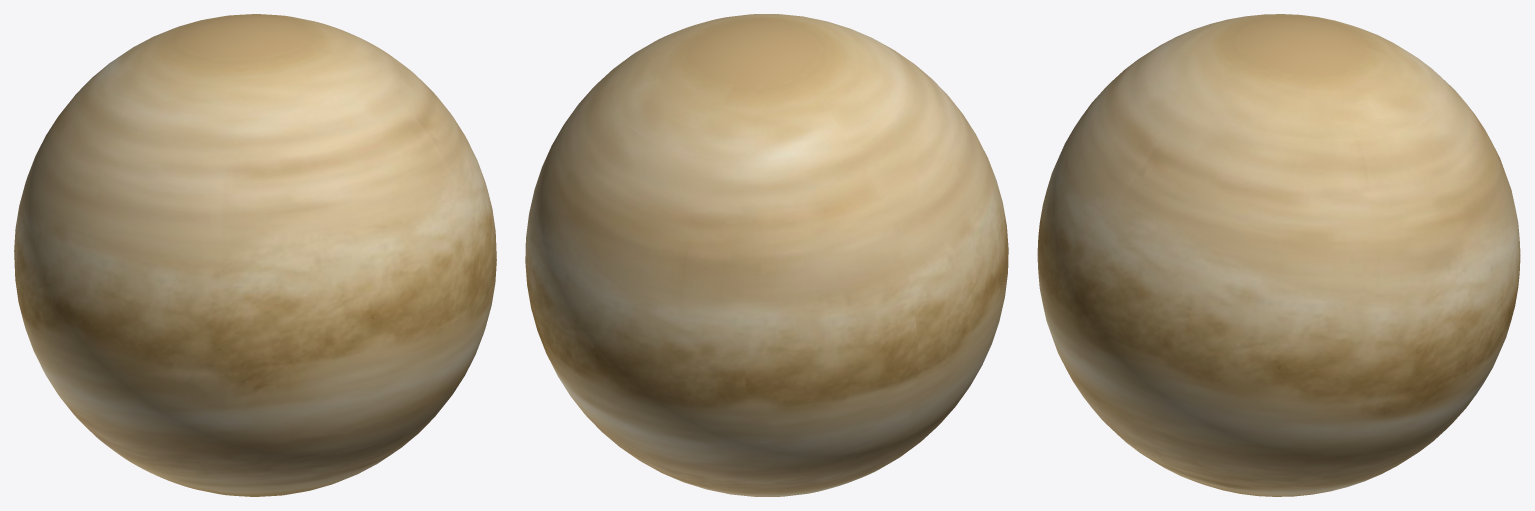
Rendered from venus.obj.
3 views of the same model, side by side, from view 1: azimuth 30°, elevation 25°; view 2: azimuth 150°, elevation 25°; view 3: azimuth 270°, elevation 25° (orthographic).
Parts seen in each view (by area): view 1: Sphere; view 2: Sphere; view 3: Sphere.
Part boxes in pixels (x1=…): Sphere: x1=14, y1=14, x2=496, y2=496; Sphere: x1=525, y1=14, x2=1008, y2=496; Sphere: x1=1037, y1=14, x2=1520, y2=496.
Size of the model in its own units: 2 by 2 by 2.
